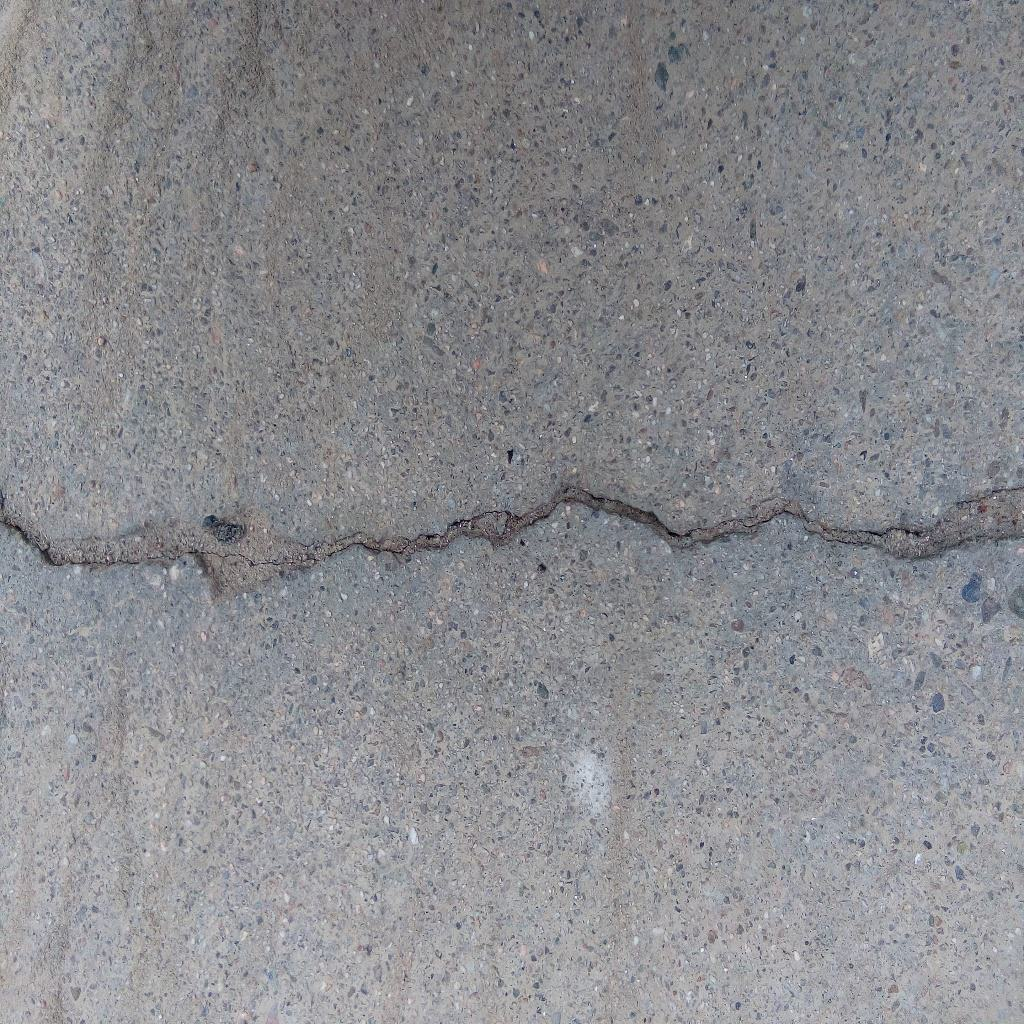Crack: (1, 485, 1024, 606)
